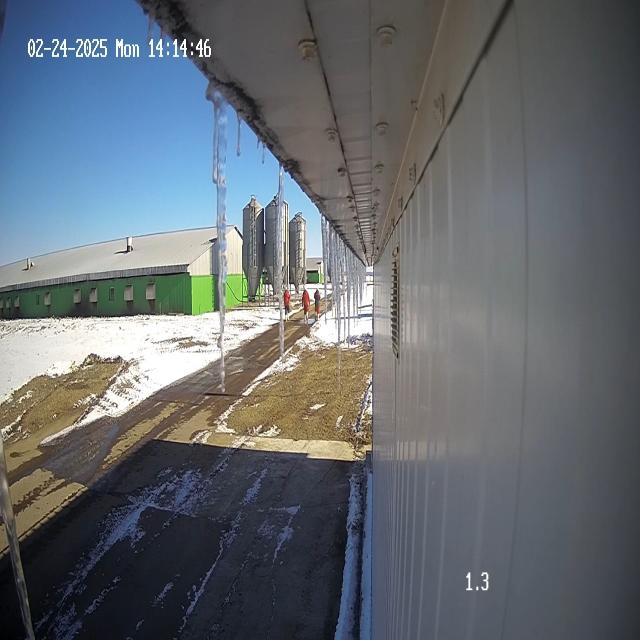Red uniform: (302, 289, 310, 320), (314, 289, 320, 321), (283, 289, 290, 315)
